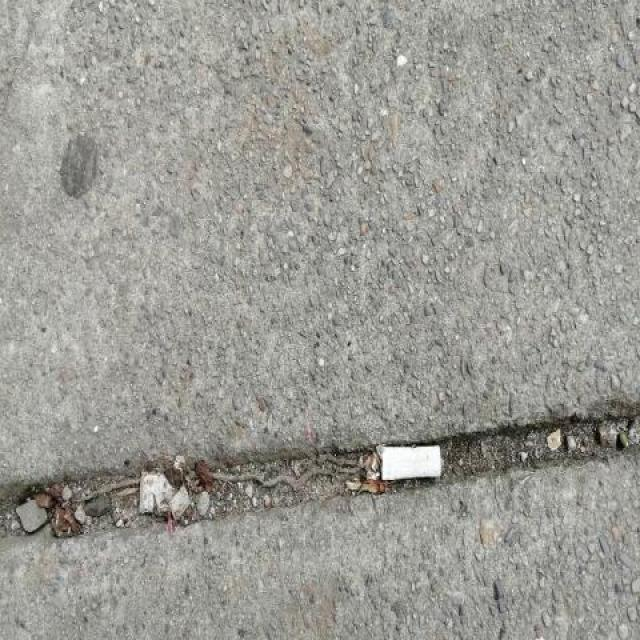non-organic waste: (377, 440, 446, 484)
